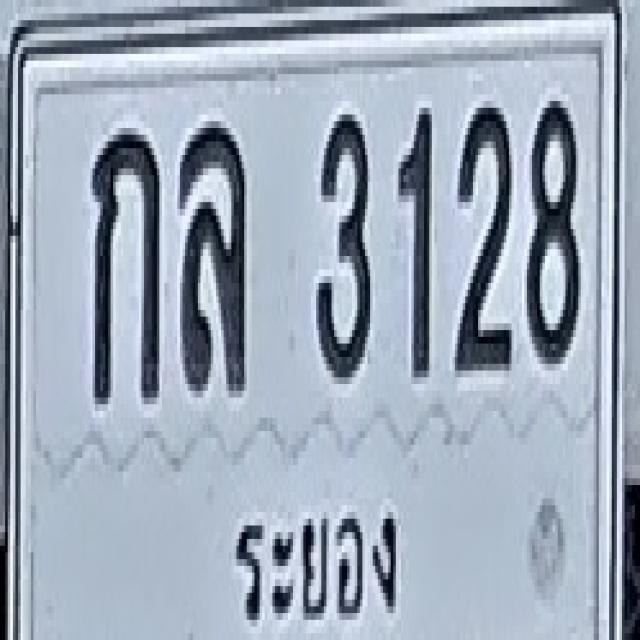1: (396, 101, 432, 377)
2: (453, 101, 512, 371)
3: (316, 104, 370, 380)
8: (526, 94, 580, 364)
A01: (90, 124, 159, 400)
A36: (178, 121, 246, 391)
RYG: (226, 485, 408, 640)
